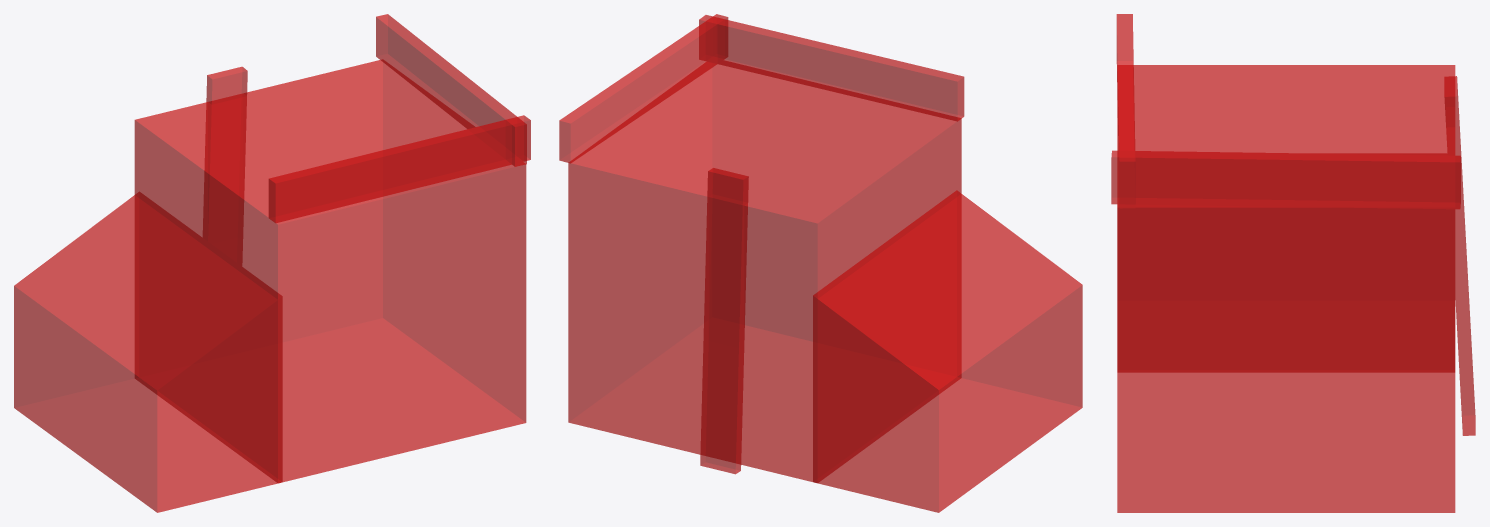
The model's file is SM_Bld_Shanty_Preset_01_Collision.fbx.
3 renders of one model, left to right at view 1: azimuth 30°, elevation 25°; view 2: azimuth 150°, elevation 25°; view 3: azimuth 270°, elevation 25°, orthographic. The views are drawn at different scales.
Parts seen in each view (by area): view 1: SM_Bld_Shanty_Preset_01_Collision; view 2: SM_Bld_Shanty_Preset_01_Collision; view 3: SM_Bld_Shanty_Preset_01_Collision.
Boxes of the visible parts, <box> form: SM_Bld_Shanty_Preset_01_Collision: <box>14,14,530,512</box>; SM_Bld_Shanty_Preset_01_Collision: <box>559,14,1082,512</box>; SM_Bld_Shanty_Preset_01_Collision: <box>1111,14,1475,512</box>.
Bounding box in the file's own units: 815 × 629 × 579.
